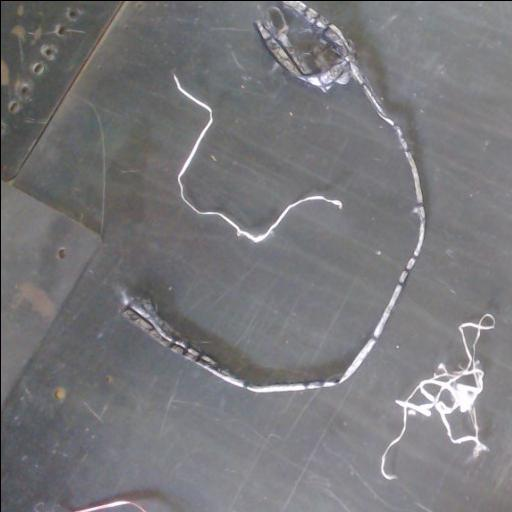cloth: (121, 1, 424, 391)
conveyor belt: (1, 1, 512, 512)
thread: (173, 74, 341, 242), (381, 314, 494, 478), (71, 499, 147, 512)
